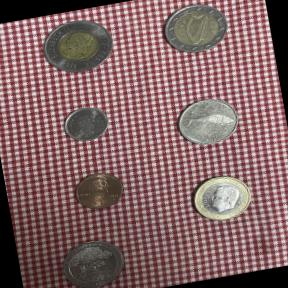coin: (32, 9, 127, 85), (166, 86, 250, 160), (180, 163, 264, 234), (153, 0, 238, 62), (49, 231, 133, 288), (68, 165, 131, 218), (54, 98, 116, 148)
